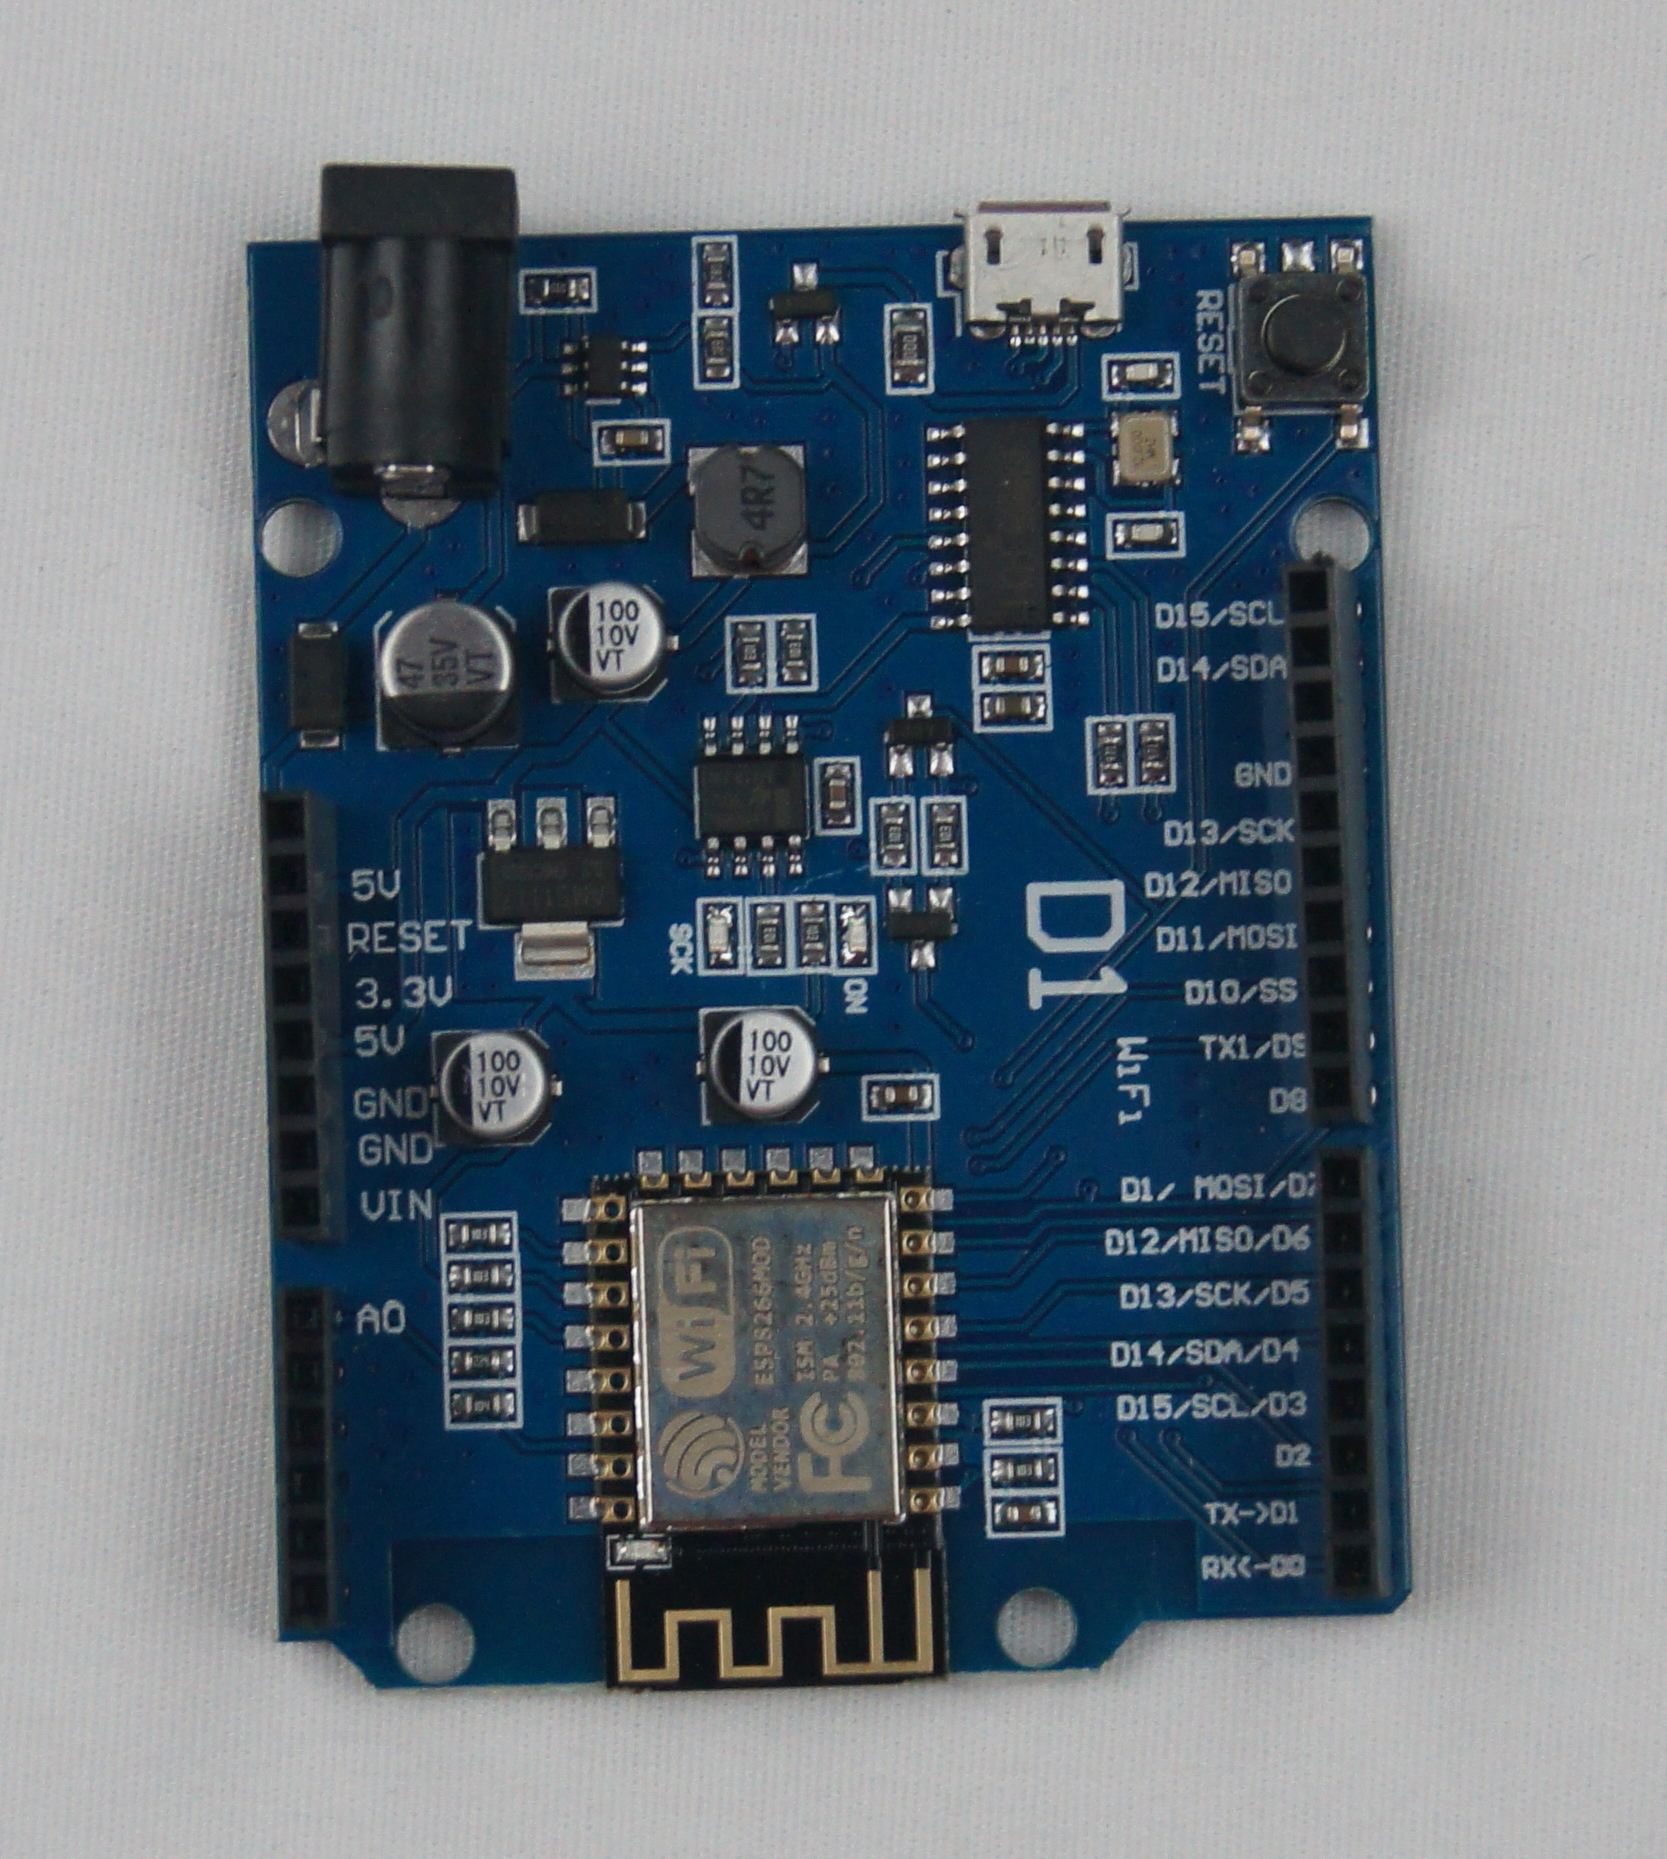resistor: (891, 304, 930, 390), (1093, 719, 1133, 790), (523, 272, 594, 309), (698, 238, 735, 309), (698, 315, 739, 380), (732, 620, 769, 689), (442, 1304, 518, 1338), (447, 1387, 518, 1423), (447, 1259, 517, 1294), (988, 1404, 1057, 1439), (1136, 718, 1171, 787), (777, 616, 813, 686), (990, 1453, 1060, 1487), (875, 800, 911, 868), (927, 800, 962, 868), (446, 1217, 513, 1251), (751, 901, 787, 966), (795, 900, 829, 966), (447, 1346, 517, 1378)
